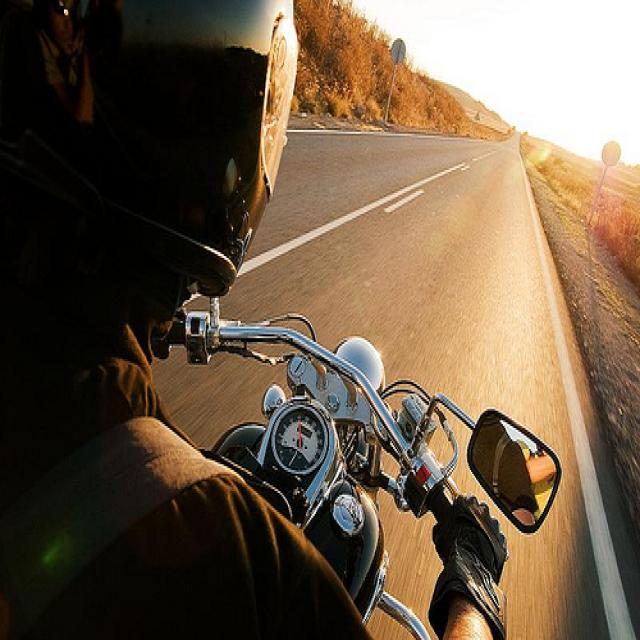motor: (153, 295, 563, 633)
